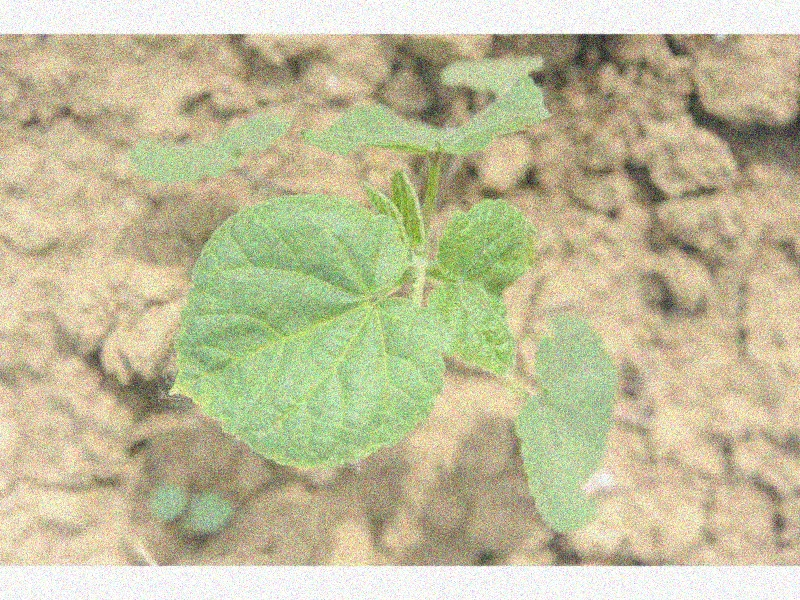velvet: (126, 52, 617, 529)
